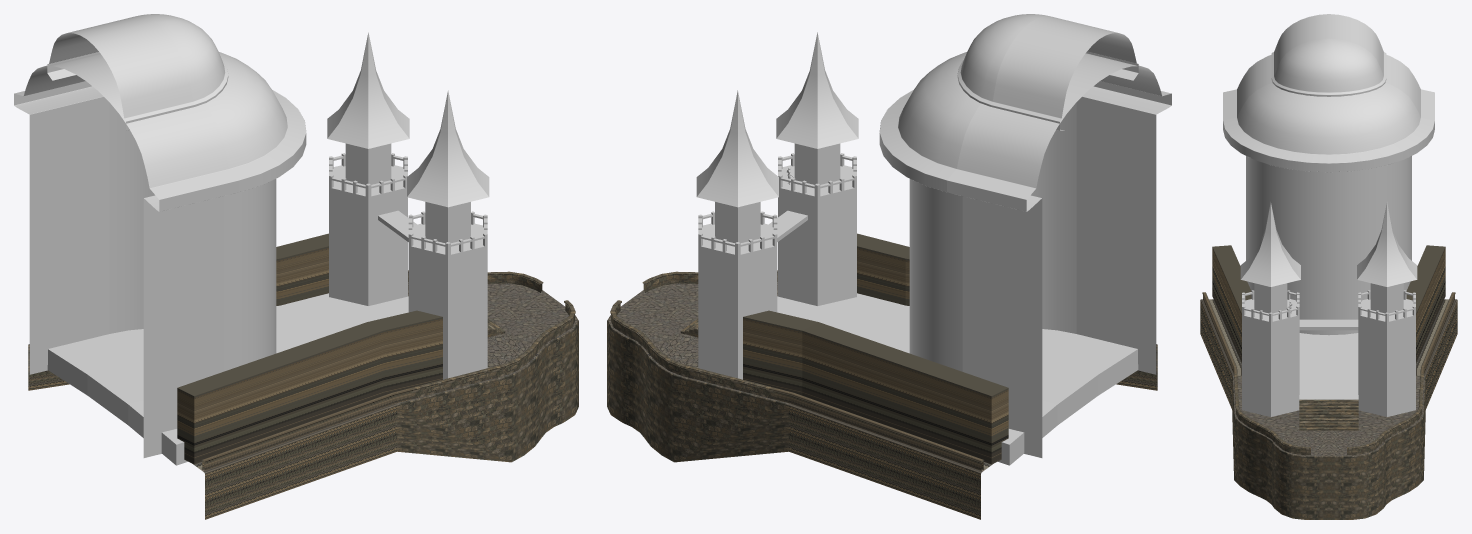
The model's file is CastleBlockout.fbx.
3 renders of one model, left to right at view 1: azimuth 30°, elevation 25°; view 2: azimuth 150°, elevation 25°; view 3: azimuth 270°, elevation 25°, orthographic. The views are drawn at different scales.
Visible parts, largest first — view 1: Sphere.005, Cube, CaveBridgeSecondPlatform, Sphere.004, CaveBridgeRailings.002, Cube.001, Sphere.006, CaveBridgeRailings.001, Sphere.002, Cube.019; view 2: Sphere.005, Cube, CaveBridgeSecondPlatform, Sphere.004, CaveBridgeRailings.002, Cube.001, Sphere.006, CaveBridgeRailings.001, Sphere.002, Cube.019; view 3: Sphere.004, CaveBridgeSecondPlatform, Cube, Sphere.002, CaveBridgeRailings.002, Cube.001, Sphere.006, Sphere.005, CaveBridgeRailings.001, CaveBridgeStairs1.001, Cube.019, Cube.018.
Part boxes in pixels (bbox=[...]): Sphere.005: bbox=[14, 53, 238, 457]; Cube: bbox=[327, 32, 489, 379]; CaveBridgeSecondPlatform: bbox=[28, 282, 578, 519]; Sphere.004: bbox=[109, 52, 306, 371]; CaveBridgeRailings.002: bbox=[177, 233, 442, 464]; Cube.001: bbox=[47, 293, 408, 465]; Sphere.006: bbox=[47, 16, 194, 130]; CaveBridgeRailings.001: bbox=[201, 270, 575, 470]; Sphere.002: bbox=[136, 14, 228, 106]; Cube.019: bbox=[329, 153, 487, 255]; Sphere.005: bbox=[947, 53, 1171, 457]; Cube: bbox=[696, 32, 858, 379]; CaveBridgeSecondPlatform: bbox=[607, 282, 1157, 519]; Sphere.004: bbox=[879, 52, 1076, 371]; CaveBridgeRailings.002: bbox=[743, 233, 1008, 464]; Cube.001: bbox=[777, 293, 1138, 465]; Sphere.006: bbox=[991, 16, 1138, 130]; CaveBridgeRailings.001: bbox=[610, 270, 984, 470]; Sphere.002: bbox=[957, 14, 1049, 106]; Cube.019: bbox=[698, 153, 856, 255]; Sphere.004: bbox=[1223, 82, 1434, 335]; CaveBridgeSecondPlatform: bbox=[1200, 299, 1457, 519]; Cube: bbox=[1240, 202, 1417, 416]; Sphere.002: bbox=[1271, 38, 1386, 96]; CaveBridgeRailings.002: bbox=[1212, 245, 1445, 362]; Cube.001: bbox=[1299, 333, 1358, 399]; Sphere.006: bbox=[1271, 14, 1386, 77]; Sphere.005: bbox=[1223, 54, 1434, 120]; CaveBridgeRailings.001: bbox=[1202, 292, 1455, 455]; CaveBridgeStairs1.001: bbox=[1299, 399, 1358, 430]; Cube.019: bbox=[1242, 290, 1415, 322]; Cube.018: bbox=[1299, 319, 1358, 330].
Bounding box in the file's own units: 53.99 × 50.73 × 35.02.
